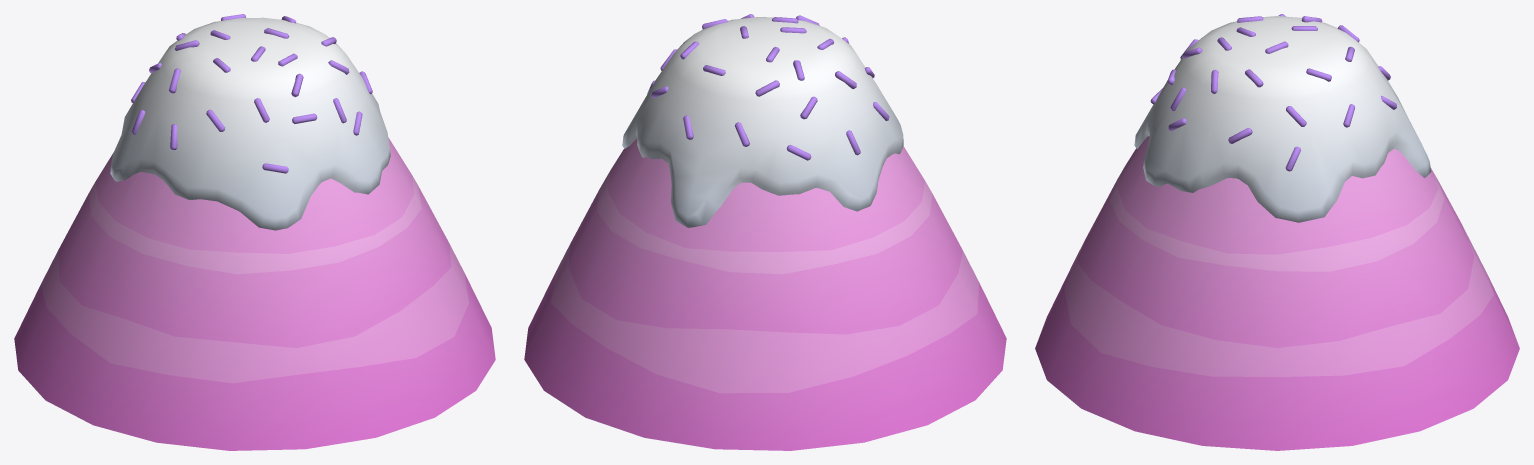
The model's file is Mountain_02.glb.
The picture shows the model from 3 angles, left to right: view 1: azimuth 30°, elevation 25°; view 2: azimuth 150°, elevation 25°; view 3: azimuth 270°, elevation 25°; orthographic projection.
Visible parts, largest first — view 1: Mountain_02; view 2: Mountain_02; view 3: Mountain_02.
Part boxes in pixels (bbox=[...]): Mountain_02: bbox=[14, 14, 495, 450]; Mountain_02: bbox=[524, 14, 1006, 450]; Mountain_02: bbox=[1035, 14, 1519, 450].
Size of the model in its own units: 33.8 by 24.2 by 33.8.
1 material, 1 textured.
